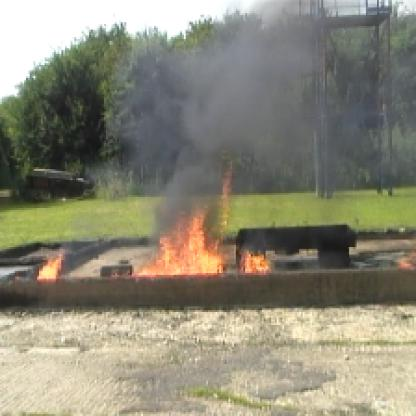Fire: (137, 191, 234, 277), (37, 249, 67, 280)
Smoke: (162, 2, 346, 191)
